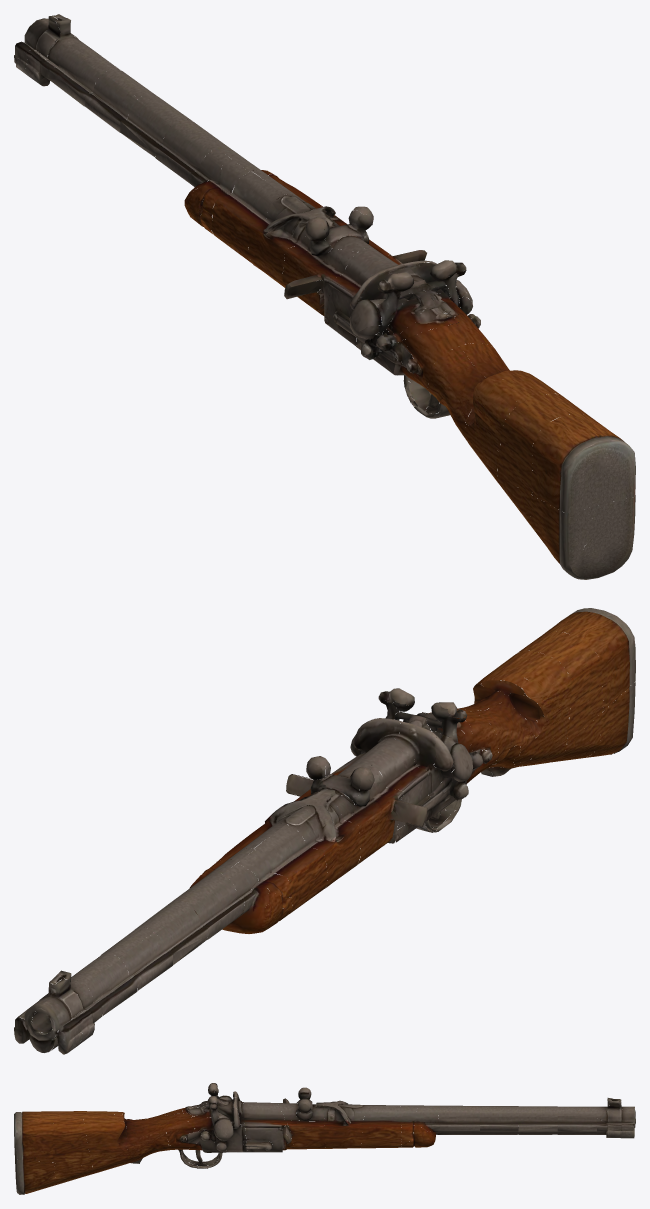
File: mosquete.glb
3 renders of one model, top to bottom at view 1: azimuth 30°, elevation 25°; view 2: azimuth 150°, elevation 25°; view 3: azimuth 270°, elevation 25°, orthographic. The views are drawn at different scales.
Parts seen in each view (by area): view 1: tripo_node_dbdb0611-f804-4d05-9ef3-765bb8827207; view 2: tripo_node_dbdb0611-f804-4d05-9ef3-765bb8827207; view 3: tripo_node_dbdb0611-f804-4d05-9ef3-765bb8827207.
Part boxes in pixels (bbox=[...]): tripo_node_dbdb0611-f804-4d05-9ef3-765bb8827207: bbox=[14, 14, 635, 579]; tripo_node_dbdb0611-f804-4d05-9ef3-765bb8827207: bbox=[14, 608, 635, 1054]; tripo_node_dbdb0611-f804-4d05-9ef3-765bb8827207: bbox=[14, 1083, 635, 1194].
Size of the model in its own units: 0.1385 by 0.1764 by 0.982.
Materials: 1 (1 with a texture image).
